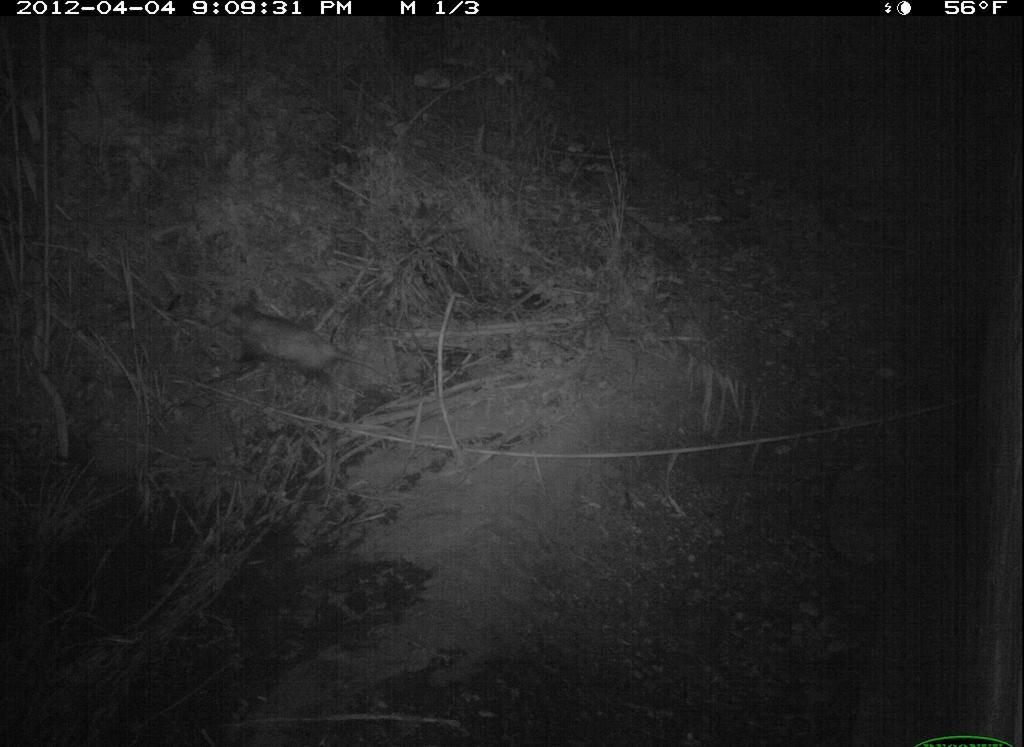opossum: (207, 289, 401, 409)
